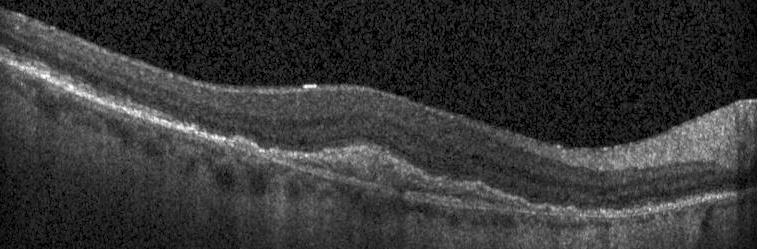subretinal_hyperreflective_material: (233, 137, 581, 215)
